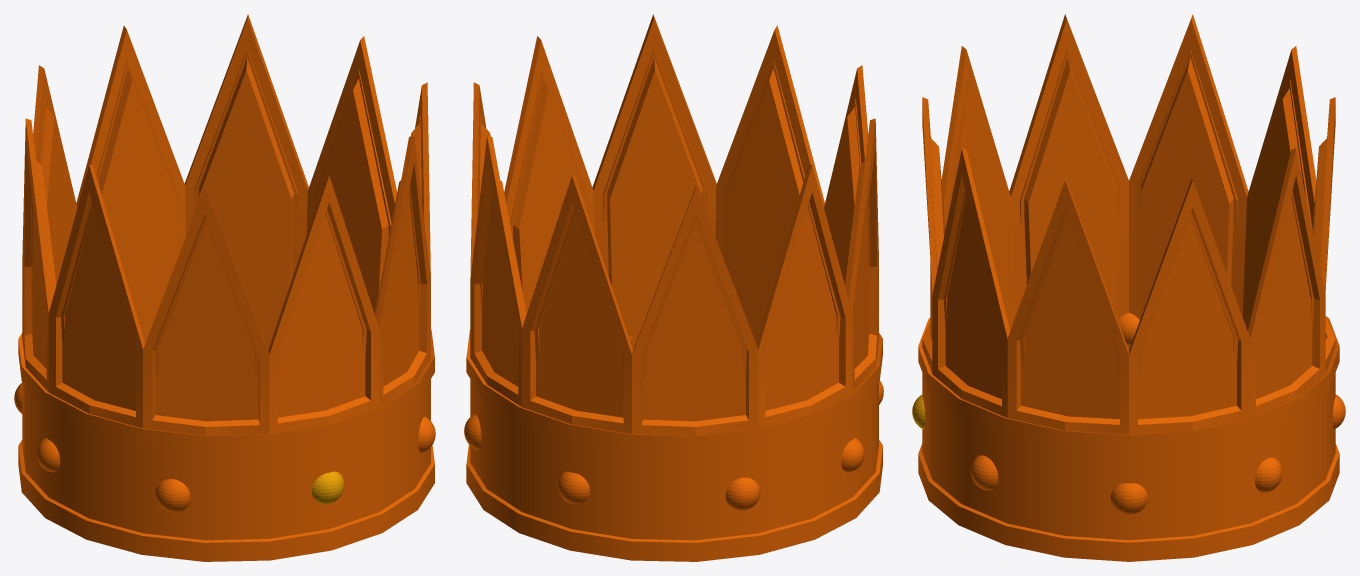
The model's file is crown.fbx.
The picture shows the model from 3 angles, left to right: view 1: azimuth 30°, elevation 25°; view 2: azimuth 150°, elevation 25°; view 3: azimuth 270°, elevation 25°; orthographic projection.
Parts seen in each view (by area): view 1: Cylinder, Sphere.006, Sphere; view 2: Cylinder, Sphere.003, Sphere.002; view 3: Cylinder, Sphere.001, Sphere.005, Sphere.004.
Part boxes in pixels (x1,y1,x2,y2): Cylinder: [18, 14, 434, 561]; Sphere.006: [155, 479, 190, 512]; Sphere: [312, 471, 344, 504]; Cylinder: [466, 14, 882, 561]; Sphere.003: [725, 477, 760, 510]; Sphere.002: [557, 471, 589, 504]; Cylinder: [918, 14, 1339, 561]; Sphere.001: [1110, 483, 1147, 514]; Sphere.005: [970, 455, 998, 490]; Sphere.004: [1255, 457, 1282, 492].
Bounding box in the file's own units: 210 × 201 × 210.
